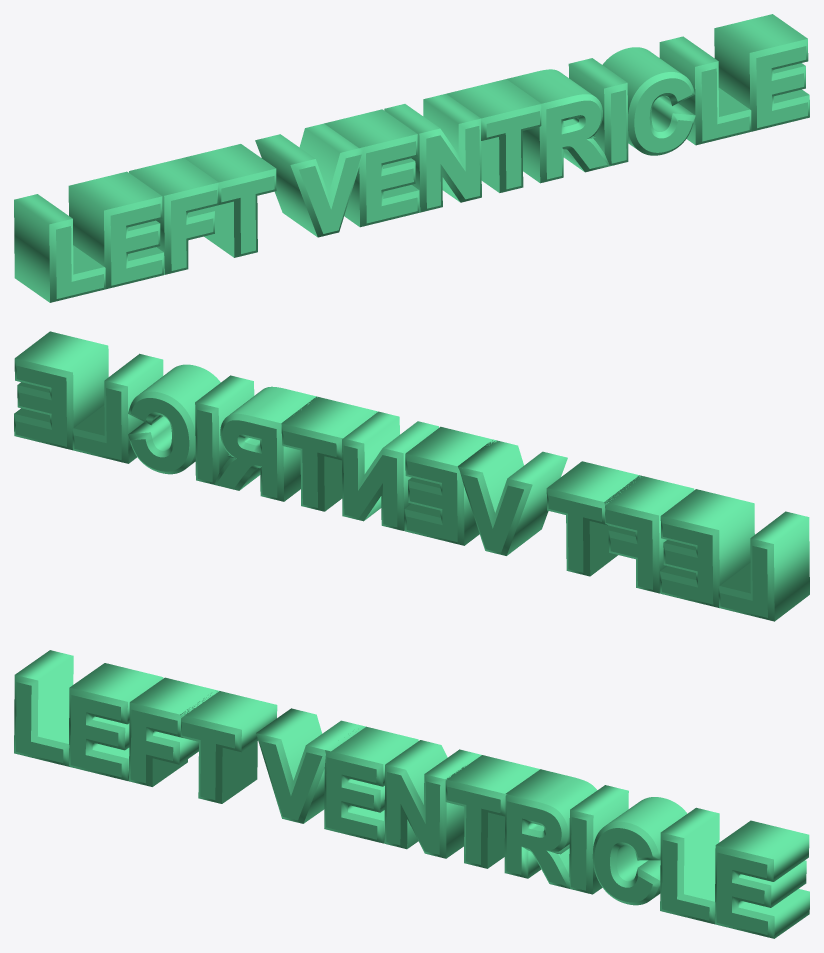
The model's file is L.VENTRICLE.fbx.
3 renders of one model, top to bottom at view 1: azimuth 30°, elevation 25°; view 2: azimuth 150°, elevation 25°; view 3: azimuth 330°, elevation 25°, orthographic.
Visible parts, largest first — view 1: Text; view 2: Text; view 3: Text.
Part boxes in pixels (x1,y1,x2,y2): Text: (14,14,809,302); Text: (14,331,809,621); Text: (14,650,809,938).
Bounding box in the file's own units: 5.89 × 0.6068 × 0.5489.
